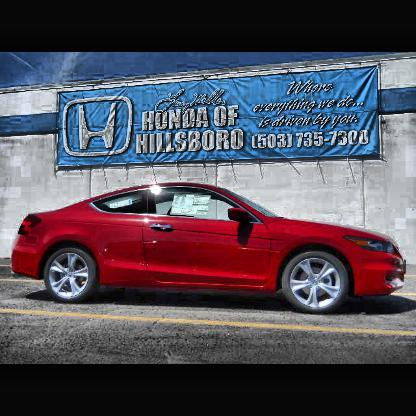Honda Accord Coupe 2012: (10, 183, 407, 312)
